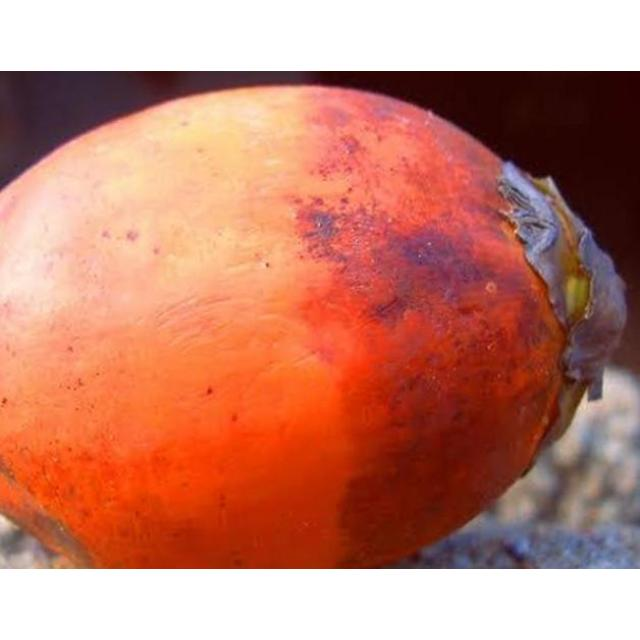good: (0, 85, 626, 568)
